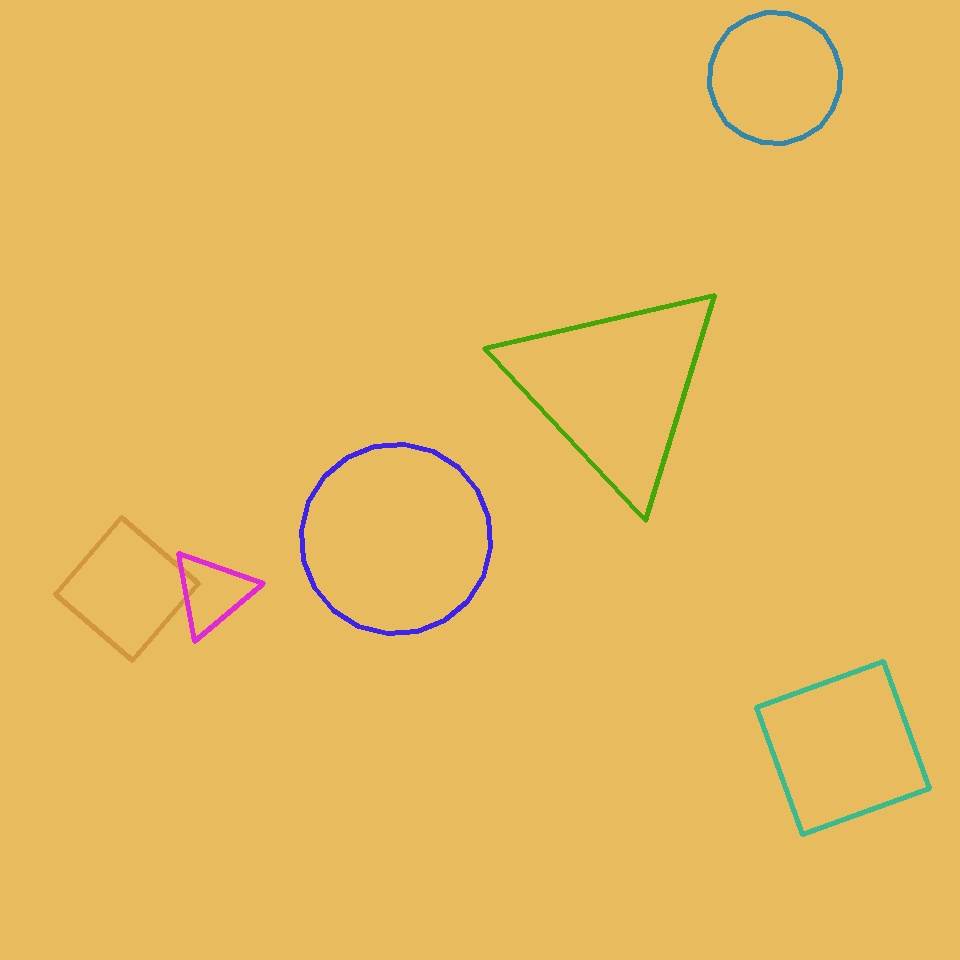circle: (500, 276, 730, 500), (169, 549, 254, 637)
square: (756, 662, 930, 834), (56, 518, 198, 660)
triangle: (301, 444, 490, 633), (710, 13, 840, 144)
